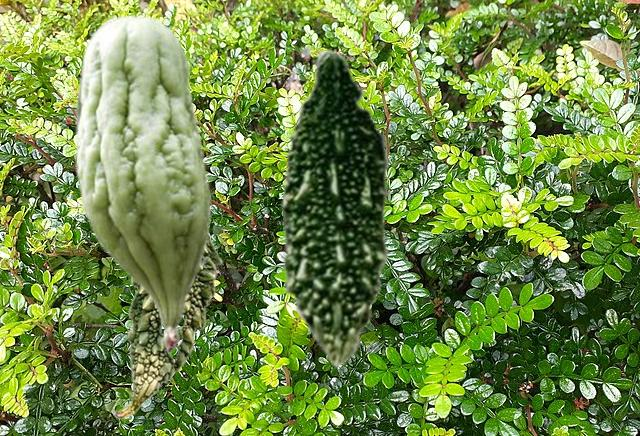ampalaya: (74, 14, 211, 352), (280, 44, 396, 369), (112, 208, 222, 418)
